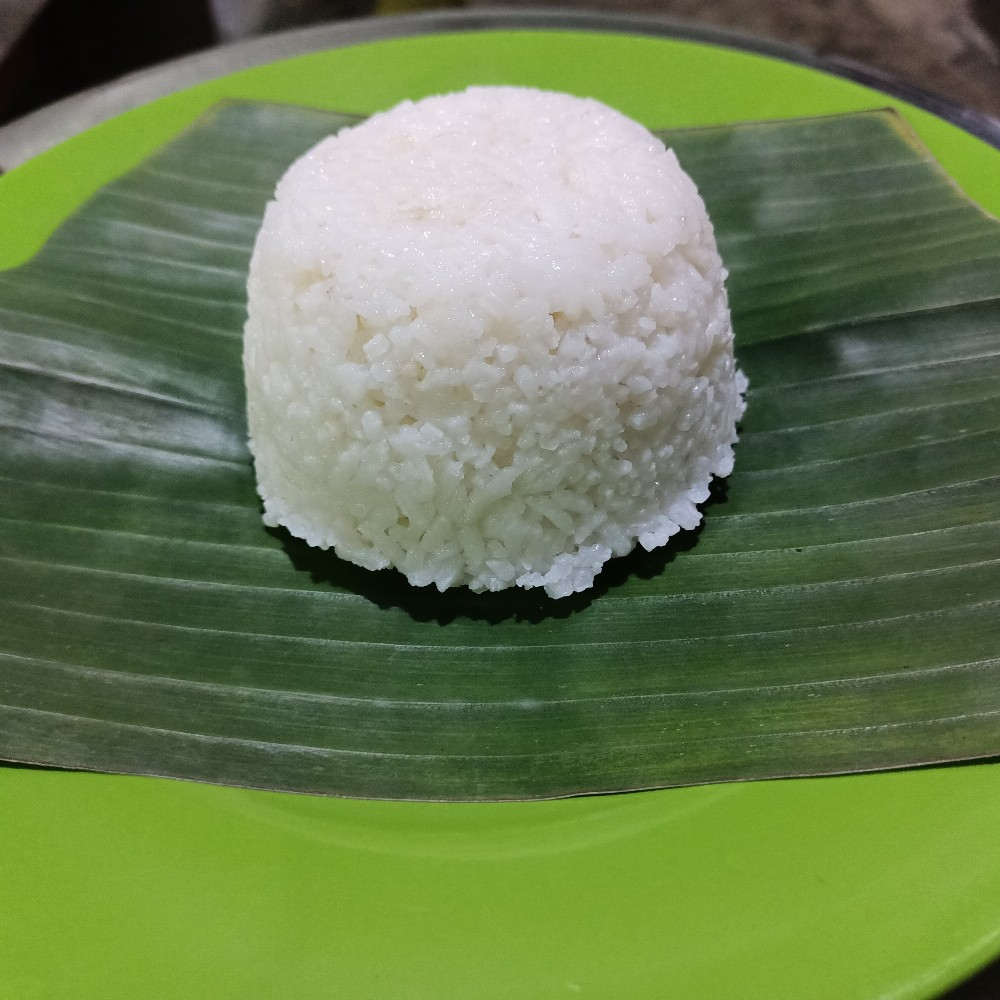Nasi Putih: (160, 47, 791, 632)
